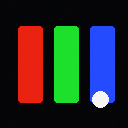2 circle: (92, 91, 108, 107)
